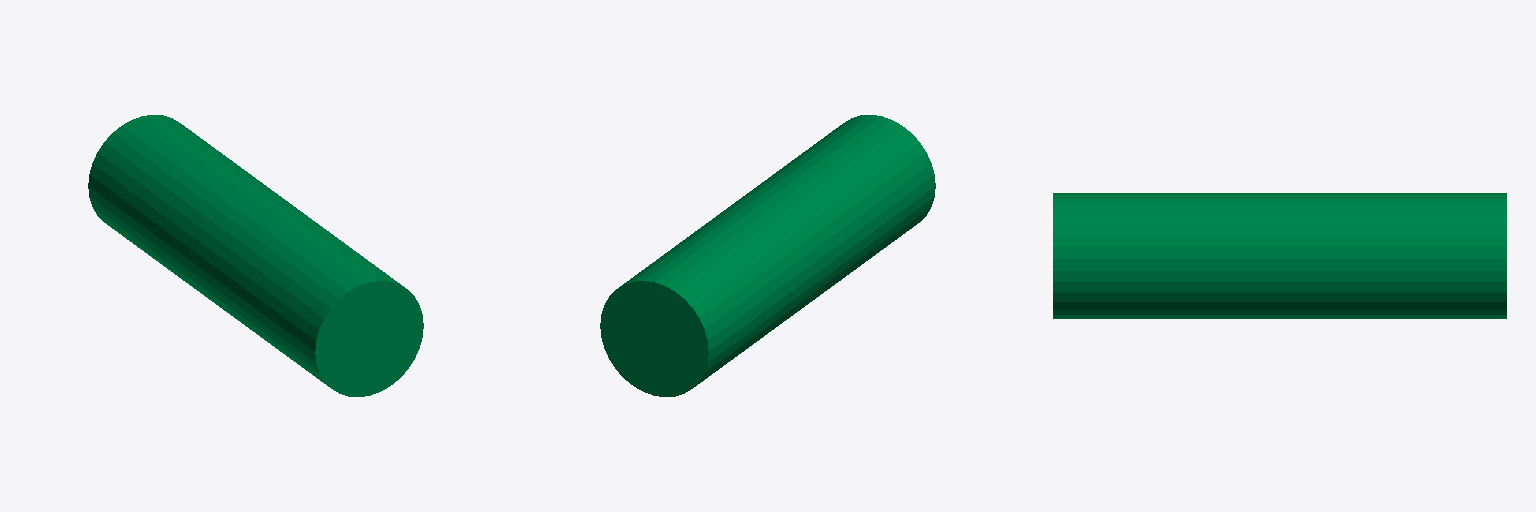
The model's file is VerbindungsstueckS2.obj.
The picture shows the model from 3 angles: view 1: azimuth 30°, elevation 25°; view 2: azimuth 150°, elevation 25°; view 3: azimuth 270°, elevation 25°; orthographic projection.
Parts seen in each view (by area): view 1: Verbindungsstück_S.002_Cylinder.025; view 2: Verbindungsstück_S.002_Cylinder.025; view 3: Verbindungsstück_S.002_Cylinder.025.
Part boxes in pixels (x1,y1,x2,y2): Verbindungsstück_S.002_Cylinder.025: (88,115,423,396); Verbindungsstück_S.002_Cylinder.025: (600,115,935,396); Verbindungsstück_S.002_Cylinder.025: (1053,193,1506,318).
Size of the model in its own units: 0.2335 by 0.2335 by 0.8463.